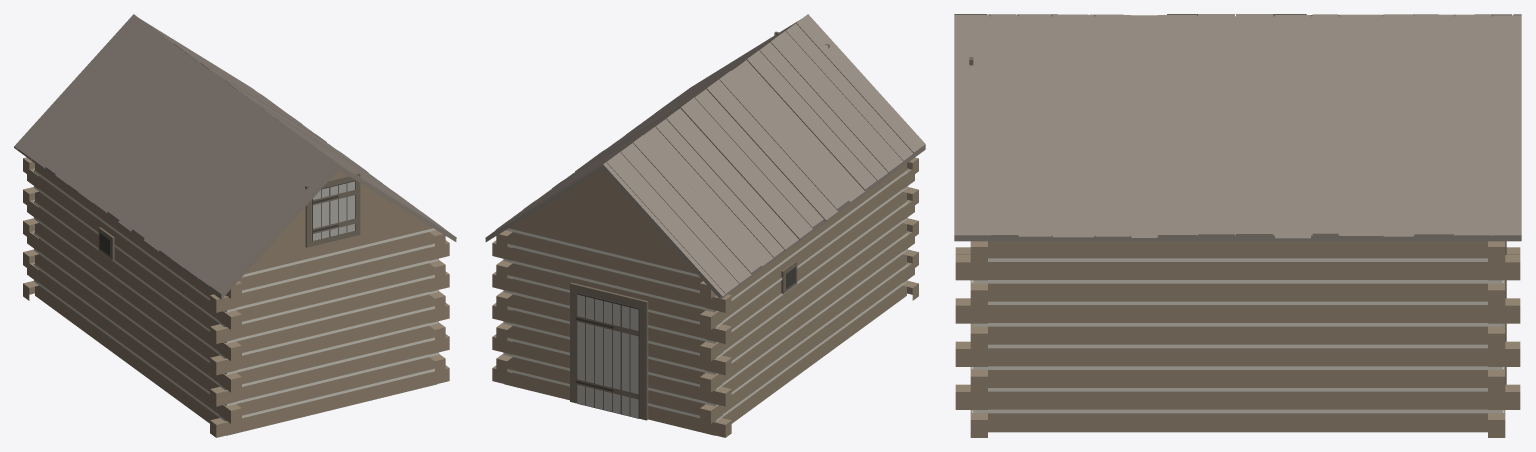
Rendered from recon_1835_blk_lake_clinton_a1_03__inferred_1835.glb.
3 renders of one model, left to right at view 1: azimuth 30°, elevation 25°; view 2: azimuth 150°, elevation 25°; view 3: azimuth 270°, elevation 25°, orthographic. The views are drawn at different scales.
Parts seen in each view (by area): view 1: recon_1835_blk_lake_clinton_a1_03__inferred_1835; view 2: recon_1835_blk_lake_clinton_a1_03__inferred_1835; view 3: recon_1835_blk_lake_clinton_a1_03__inferred_1835.
Part boxes in pixels (<box>): recon_1835_blk_lake_clinton_a1_03__inferred_1835: <box>14,14,456,437</box>; recon_1835_blk_lake_clinton_a1_03__inferred_1835: <box>485,14,925,437</box>; recon_1835_blk_lake_clinton_a1_03__inferred_1835: <box>954,14,1521,437</box>.
Bounding box in the file's own units: 5.21 × 5.22 × 7.73.
